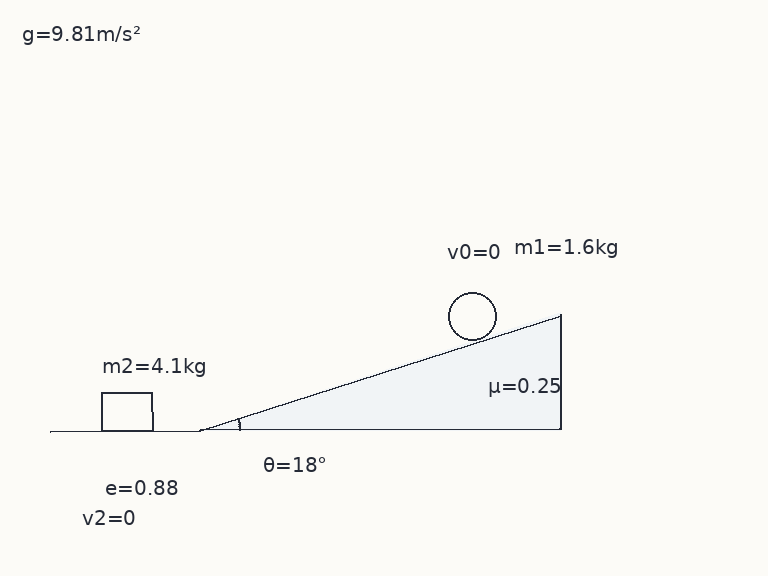ball: (446, 290, 498, 342)
block: (99, 391, 155, 432)
ramp: (198, 311, 562, 432)
